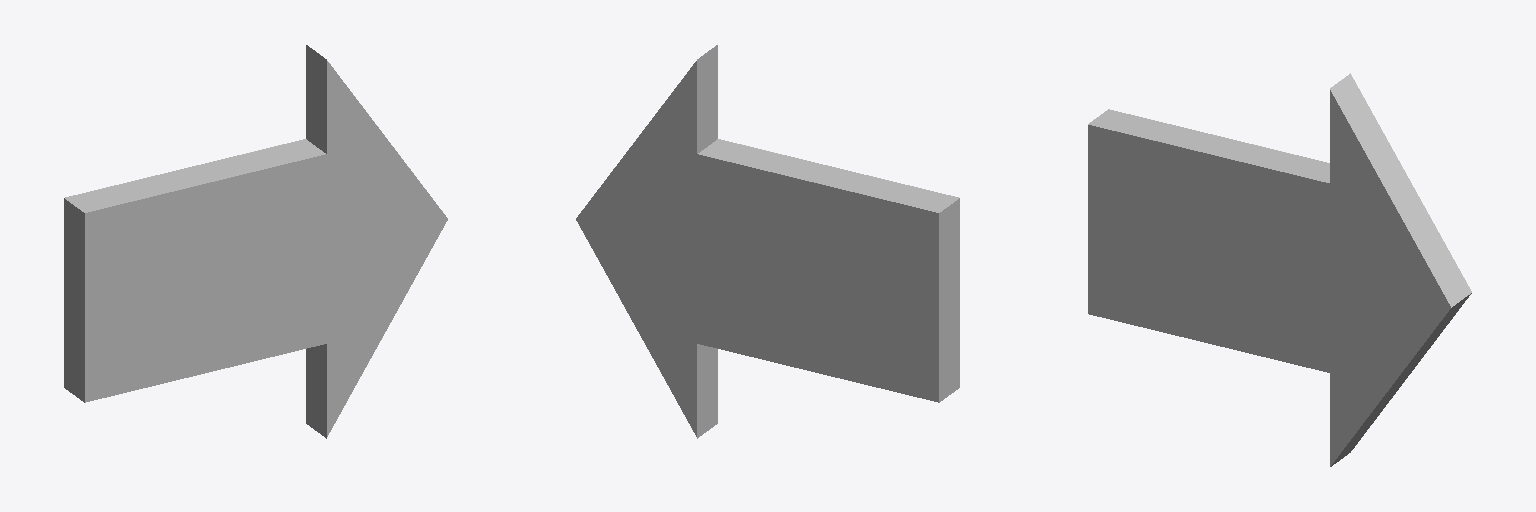
Rendered from arrow.obj.
The picture shows the model from 3 angles: view 1: azimuth 30°, elevation 25°; view 2: azimuth 150°, elevation 25°; view 3: azimuth 330°, elevation 25°; orthographic projection.
Parts seen in each view (by area): view 1: Box, Box1; view 2: Box, Box1; view 3: Box, Box1.
Part boxes in pixels (bbox=[...]): Box: bbox=[64, 139, 327, 402]; Box1: bbox=[306, 45, 447, 438]; Box: bbox=[696, 139, 959, 402]; Box1: bbox=[576, 45, 717, 438]; Box: bbox=[1088, 109, 1330, 372]; Box1: bbox=[1330, 73, 1471, 466].
Bounding box in the file's own units: 1 × 1 × 0.1.